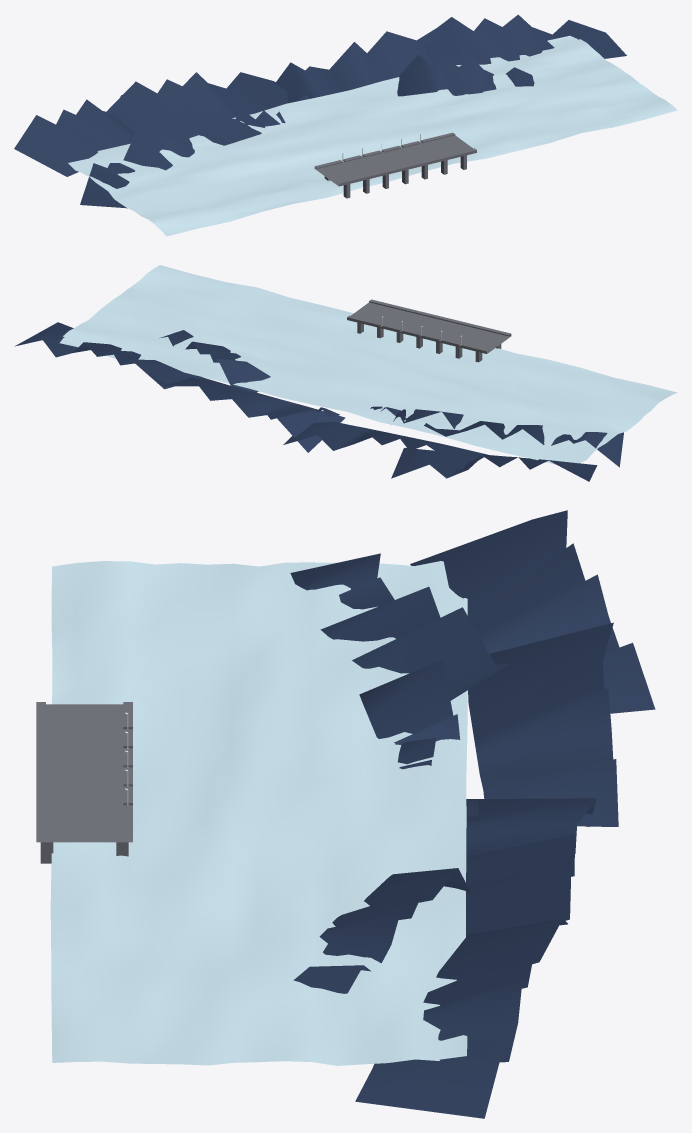
File: Stage3_SnowField.fbx
The picture shows the model from 3 angles, top to bottom: view 1: azimuth 30°, elevation 25°; view 2: azimuth 150°, elevation 25°; view 3: azimuth 270°, elevation 25°; orthographic projection. The views are drawn at different scales.
Visible parts, largest first — view 1: polySurface51; view 2: polySurface51; view 3: polySurface51.
Part boxes in pixels (x1,y1,x2,y2): polySurface51: [14, 14, 677, 236]; polySurface51: [15, 265, 677, 481]; polySurface51: [36, 510, 655, 1118].
Bounding box in the file's own units: 2970 × 222 × 1372.
